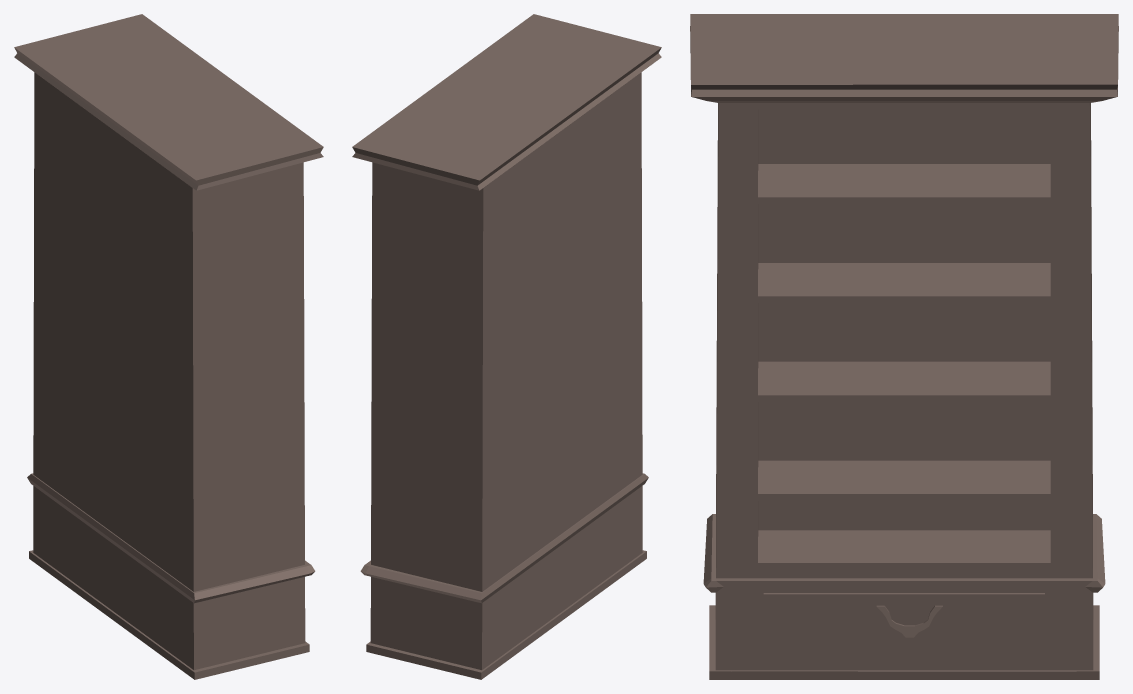
File: Shelf.fbx
The picture shows the model from 3 angles, left to right: view 1: azimuth 30°, elevation 25°; view 2: azimuth 150°, elevation 25°; view 3: azimuth 270°, elevation 25°; orthographic projection. The views are drawn at different scales.
Parts seen in each view (by area): view 1: Cube; view 2: Cube; view 3: Cube.
Boxes of the visible parts, x1,y1,x2,y2 form: Cube: [14, 14, 323, 679]; Cube: [352, 14, 661, 679]; Cube: [690, 14, 1118, 679].
Bounding box in the file's own units: 189 × 719 × 467.
